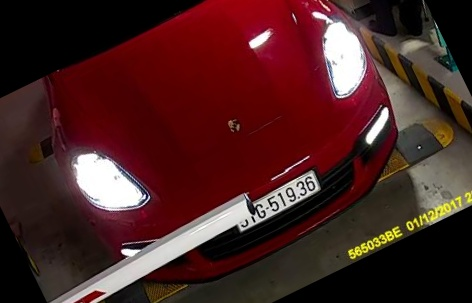plate: (236, 172, 319, 233)
